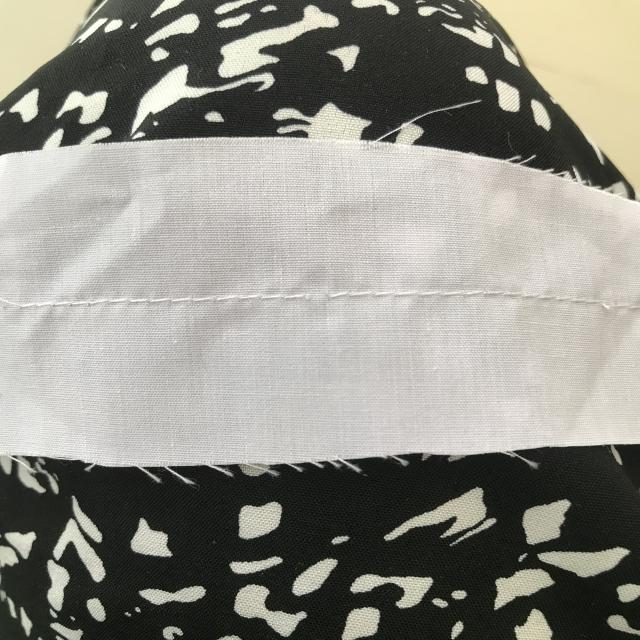broken: (286, 279, 343, 322)
